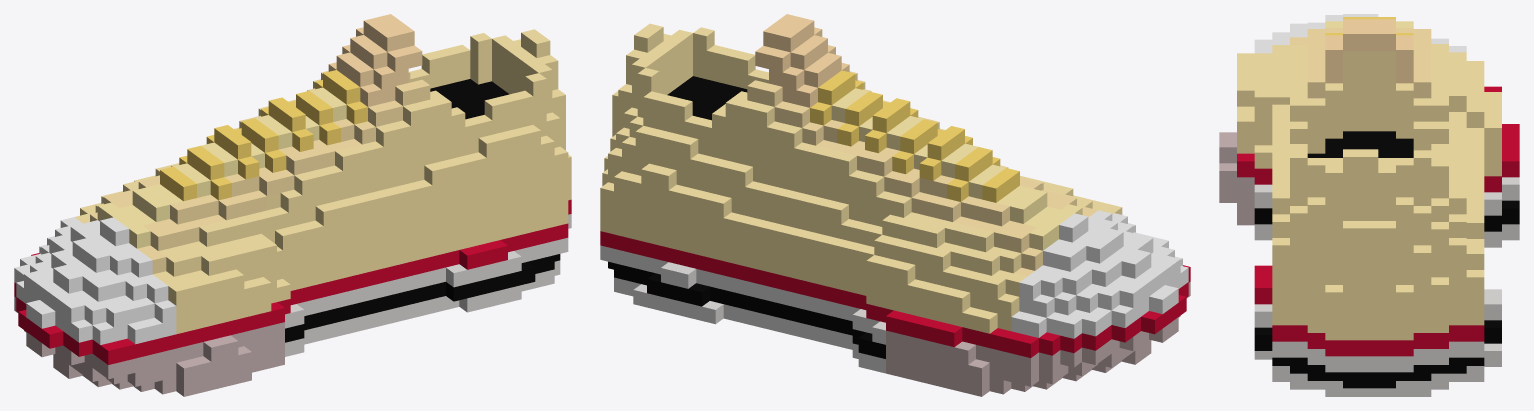
Rendered from Lemonade.fbx.
3 renders of one model, left to right at view 1: azimuth 30°, elevation 25°; view 2: azimuth 150°, elevation 25°; view 3: azimuth 270°, elevation 25°, orthographic. The views are drawn at different scales.
Visible parts, largest first — view 1: Untitled; view 2: Untitled; view 3: Untitled.
Boxes of the visible parts, <box> form: Untitled: <box>14,14,571,396</box>; Untitled: <box>600,14,1190,396</box>; Untitled: <box>1219,14,1519,396</box>.
Size of the model in its own units: 390 by 180 by 170.
